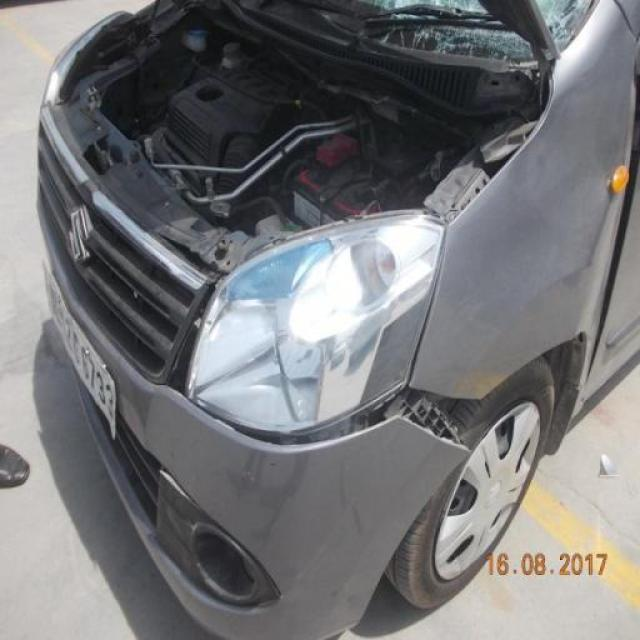misalignment: (585, 69, 640, 389)
tear: (187, 386, 480, 453)
